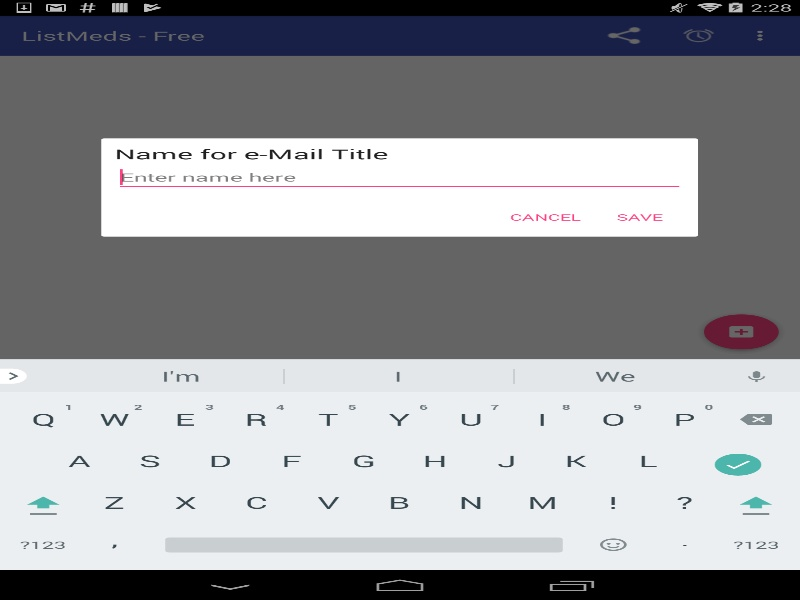Button: (494, 200, 596, 234), (596, 200, 682, 234)
Input: (114, 163, 684, 191)
